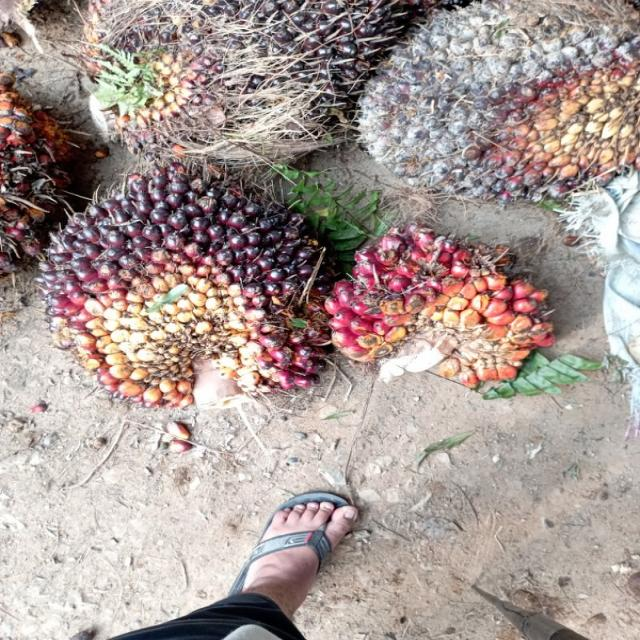fraksi 1: (0, 157, 333, 445)
fraksi 3: (303, 208, 567, 426)
